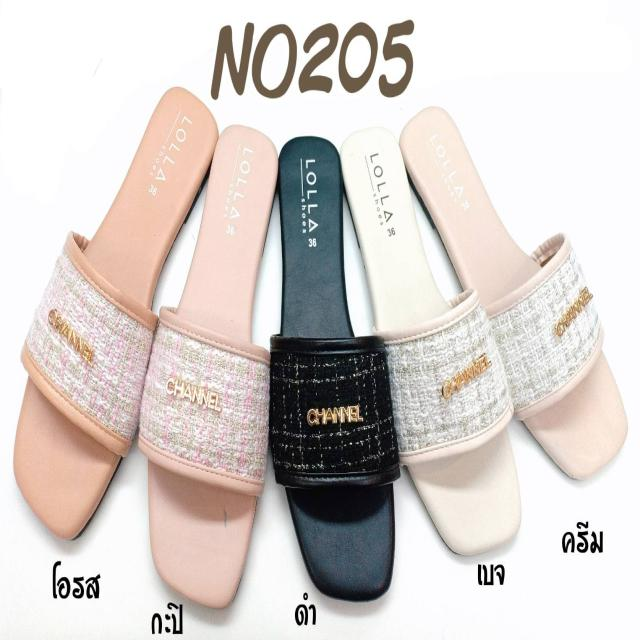bej: (337, 128, 523, 550)
black: (277, 136, 396, 598)
cream: (403, 108, 629, 478)
kapi: (148, 126, 276, 613)
orot: (10, 80, 217, 534)
